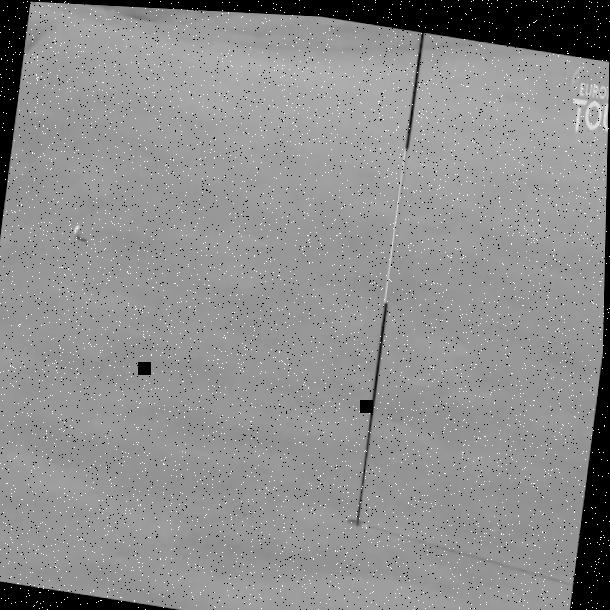GolfBall: (69, 215, 88, 249)
